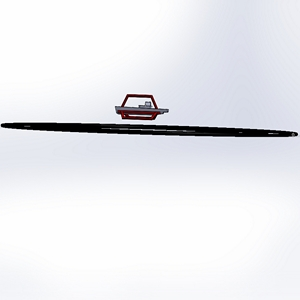circle: (1, 82, 300, 156)
submarine: (106, 84, 173, 127)
